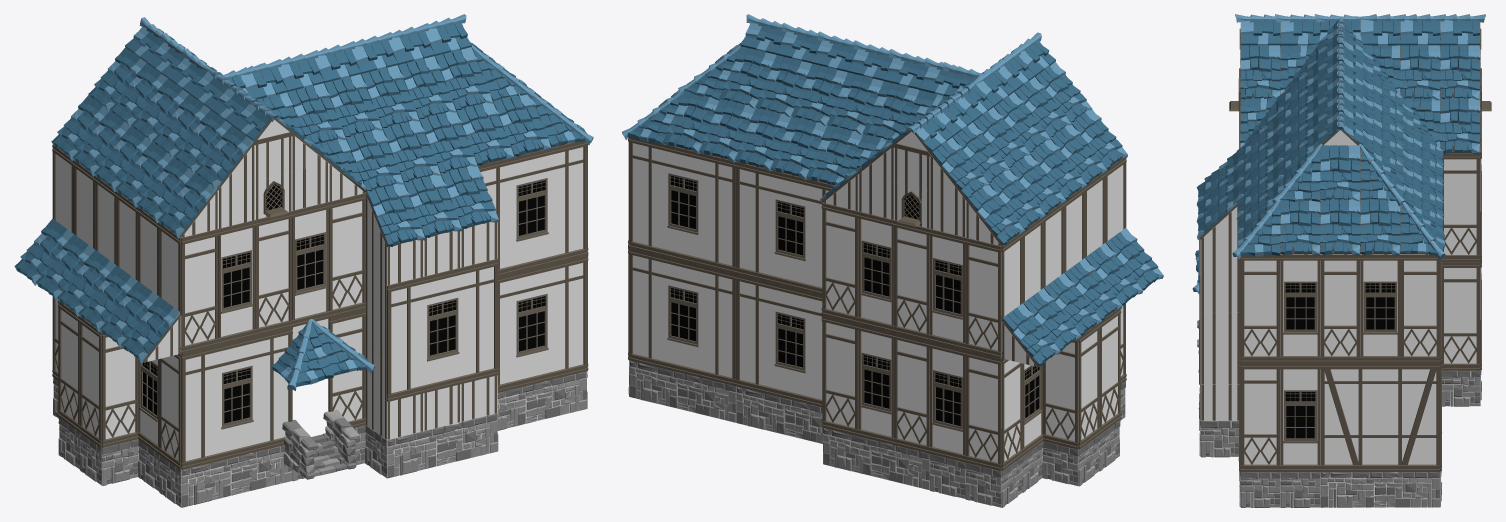
File: House_19_parts.fbx
3 views of the same model, side by side, from view 1: azimuth 30°, elevation 25°; view 2: azimuth 150°, elevation 25°; view 3: azimuth 270°, elevation 25° (orthographic). The views are drawn at different scales.
Parts seen in each view (by area): view 1: WINDOW_03_9, WINDOW_03_2, WINDOW_03_8, WINDOW_03_7, WALL_01_23, WINDOW_04_13, WALL_01_22, FOUNDATION_02_31, WALL_01_21, WINDOW_04_12, FOUNDATION_02_25, WALL_01_4 (+88 smaller); view 2: WINDOW_03_4, WINDOW_03_5, WINDOW_03_6, WINDOW_03_3, WALL_01_14, WALL_01_12, WALL_01_9, WALL_01_11, WINDOW_04_8, WINDOW_04_7, WALL_01_10, WALL_01_13 (+76 smaller); view 3: WALL_02_2, WINDOW_04_9, WINDOW_04_10, WALL_01_18, WALL_01_19, WINDOW_04_11, WALL_01_20, WALL_01_17, FOUNDATION_02_27, WALL_01_15, WALL_01_16, ROOF_base_52 (+59 smaller).
Part boxes in pixels (left/top/right/bottom): WINDOW_03_9: left=386, top=258, right=498, bottom=401; WINDOW_03_2: left=181, top=327, right=292, bottom=469; WINDOW_03_8: left=478, top=141, right=587, bottom=276; WINDOW_03_7: left=497, top=255, right=587, bottom=392; WALL_01_23: left=181, top=229, right=219, bottom=354; WINDOW_04_13: left=218, top=220, right=255, bottom=345; WALL_01_22: left=255, top=211, right=292, bottom=335; FOUNDATION_02_31: left=387, top=413, right=497, bottom=478; WALL_01_21: left=329, top=193, right=366, bottom=317; WINDOW_04_12: left=292, top=202, right=329, bottom=327; FOUNDATION_02_25: left=181, top=445, right=291, bottom=507; WALL_01_4: left=102, top=333, right=138, bottom=447; WINDOW_03_4: left=628, top=248, right=735, bottom=385; WINDOW_03_5: left=628, top=137, right=735, bottom=273; WINDOW_03_6: left=735, top=161, right=834, bottom=294; WINDOW_03_3: left=735, top=274, right=822, bottom=407; WALL_01_14: left=965, top=237, right=1001, bottom=358; WALL_01_12: left=822, top=202, right=858, bottom=323; WALL_01_9: left=965, top=350, right=1001, bottom=470; WALL_01_11: left=822, top=315, right=858, bottom=435; WINDOW_04_8: left=929, top=229, right=965, bottom=349; WINDOW_04_7: left=858, top=211, right=893, bottom=332; WALL_01_10: left=893, top=333, right=929, bottom=453; WALL_01_13: left=893, top=220, right=929, bottom=341; WALL_02_2: left=1320, top=363, right=1440, bottom=471; WINDOW_04_9: left=1280, top=254, right=1320, bottom=363; WINDOW_04_10: left=1360, top=254, right=1400, bottom=363; WALL_01_18: left=1320, top=254, right=1360, bottom=363; WALL_01_19: left=1400, top=254, right=1440, bottom=363; WINDOW_04_11: left=1280, top=363, right=1320, bottom=471; WALL_01_20: left=1240, top=363, right=1280, bottom=471; WALL_01_17: left=1240, top=254, right=1280, bottom=363; FOUNDATION_02_27: left=1320, top=472, right=1440, bottom=507; WALL_01_15: left=1442, top=262, right=1480, bottom=370; WALL_01_16: left=1442, top=153, right=1480, bottom=261; ROOF_base_52: left=1320, top=198, right=1360, bottom=256.
Size of the model in its own units: 1231 by 965 by 749.
